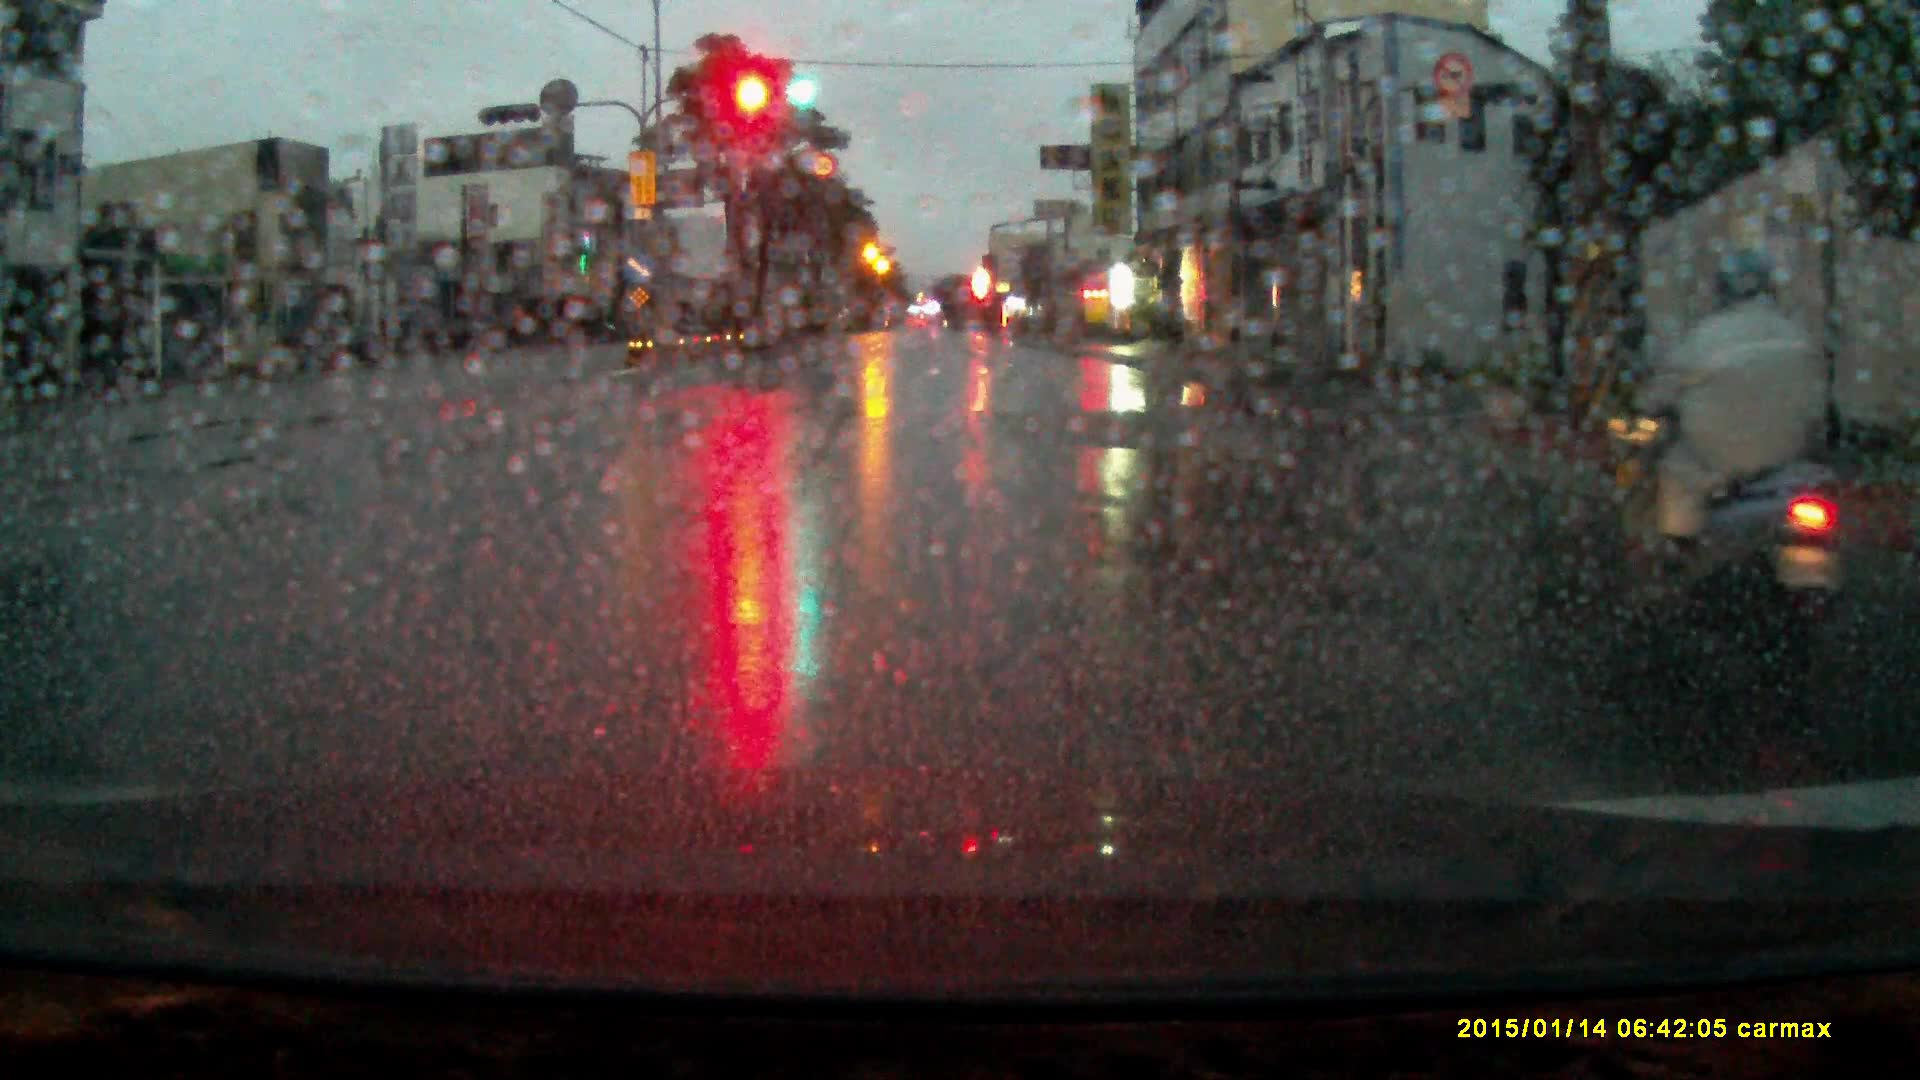rider: (1622, 240, 1862, 735)
